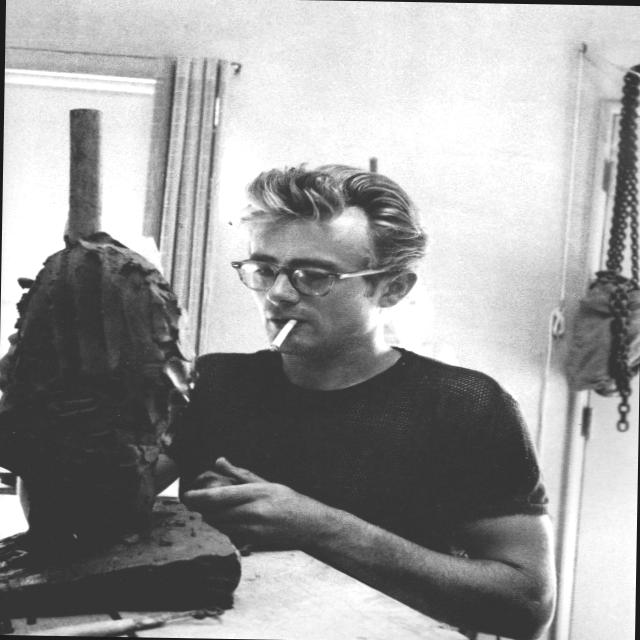cigarette: (265, 316, 299, 352)
